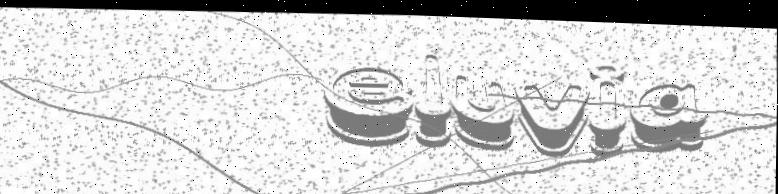a: (625, 71, 713, 167)
e: (316, 51, 417, 150)
i: (586, 59, 634, 157)
l: (409, 43, 459, 159)
u: (449, 65, 518, 149)
v: (511, 73, 593, 157)
